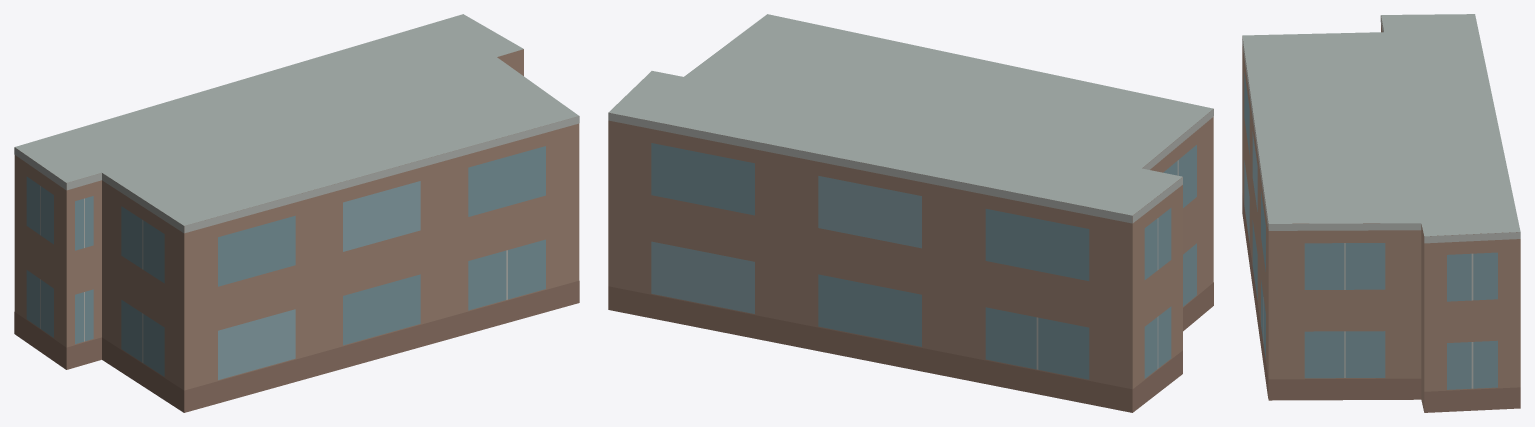
File: survey-upis-32670374.glb
The picture shows the model from 3 angles, left to right: view 1: azimuth 30°, elevation 25°; view 2: azimuth 150°, elevation 25°; view 3: azimuth 270°, elevation 25°; orthographic projection. The views are drawn at different scales.
Parts seen in each view (by area): view 1: survey-upis-32670374.tmp; view 2: survey-upis-32670374.tmp; view 3: survey-upis-32670374.tmp.
Part boxes in pixels (box(x1,y1,x2,y2)): survey-upis-32670374.tmp: box(14, 14, 579, 412); survey-upis-32670374.tmp: box(608, 14, 1213, 412); survey-upis-32670374.tmp: box(1242, 14, 1520, 412).
Size of the model in its own units: 16.49 by 6.1 by 8.73.
